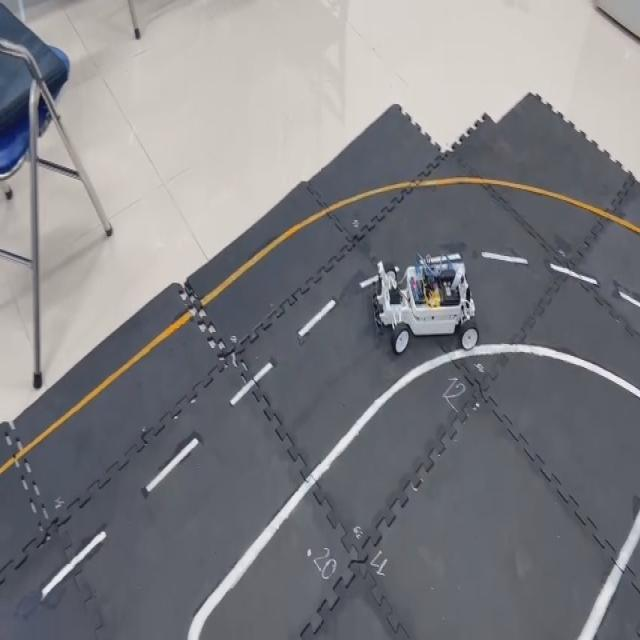SiCo-CAR: (360, 249, 480, 356)
